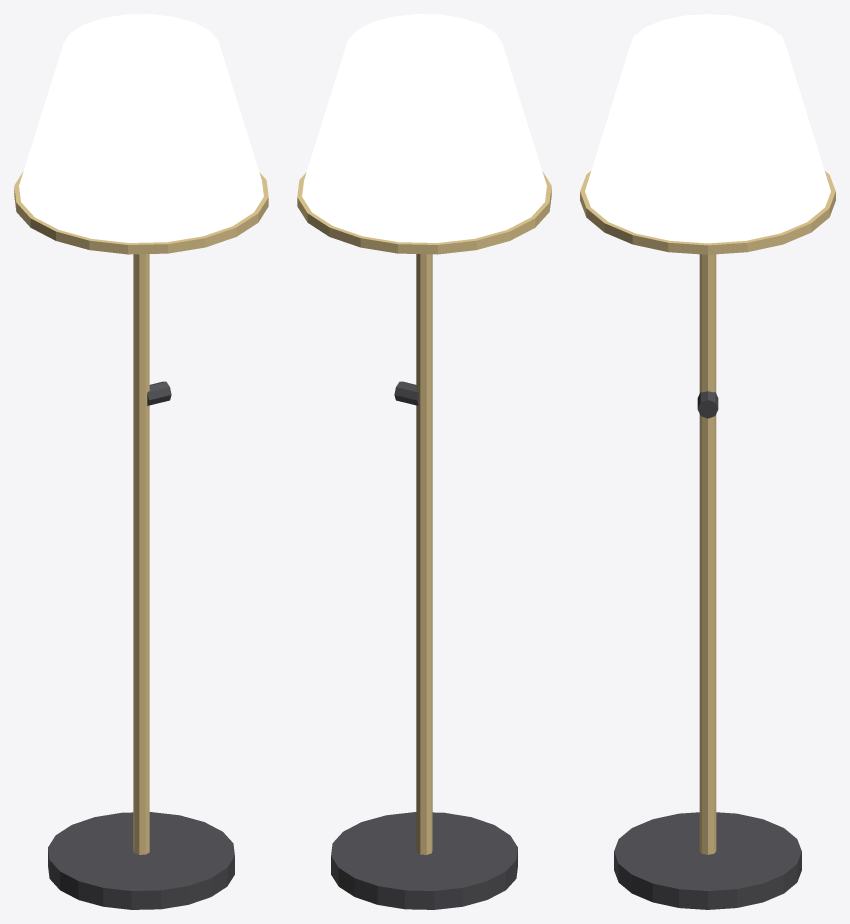
3 views of the same model, side by side, from view 1: azimuth 30°, elevation 25°; view 2: azimuth 150°, elevation 25°; view 3: azimuth 270°, elevation 25° (orthographic).
Visible parts, largest first — view 1: Decor_floor_lamp; view 2: Decor_floor_lamp; view 3: Decor_floor_lamp.
Boxes of the visible parts, x1,y1,x2,y2 form: Decor_floor_lamp: (14, 14, 268, 909); Decor_floor_lamp: (297, 14, 551, 909); Decor_floor_lamp: (580, 14, 835, 909).
Size of the model in its own units: 0.49 by 1.74 by 0.49.
